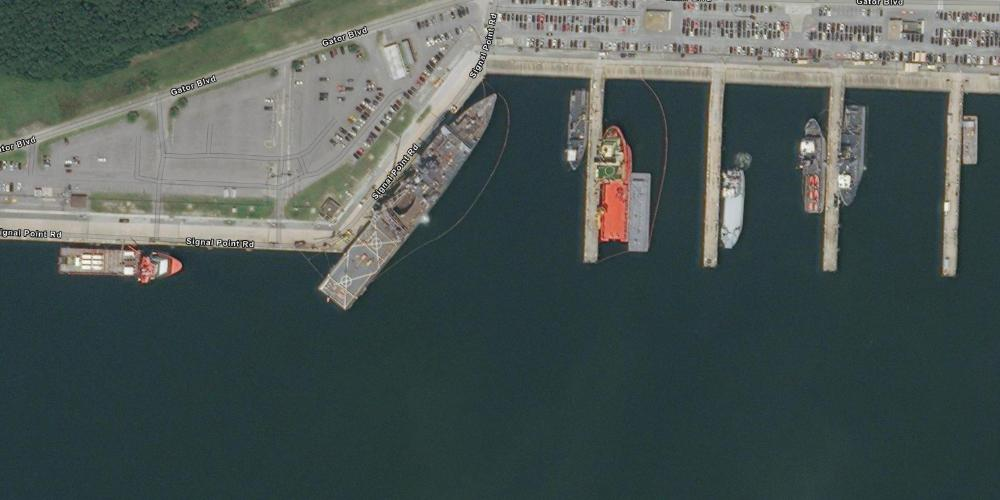amphiby: (313, 93, 499, 311)
